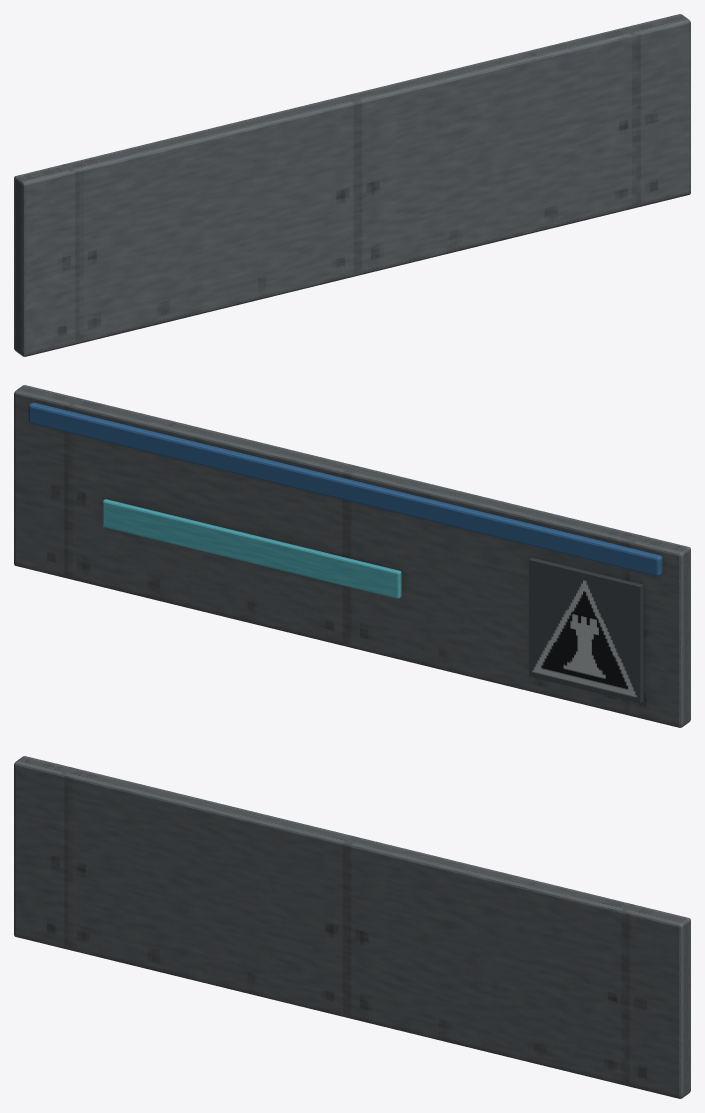
File: base_wall_sign.glb
3 renders of one model, top to bottom at view 1: azimuth 30°, elevation 25°; view 2: azimuth 150°, elevation 25°; view 3: azimuth 330°, elevation 25°, orthographic.
Parts seen in each view (by area): view 1: base_wall_sign.002; view 2: base_wall_sign.002; view 3: base_wall_sign.002.
Boxes of the visible parts, x1,y1,x2,y2 form: base_wall_sign.002: [14, 14, 690, 356]; base_wall_sign.002: [14, 385, 690, 727]; base_wall_sign.002: [14, 756, 690, 1098].
Size of the model in its own units: 3.6 by 0.9 by 0.135.
Materials: 4 (4 with a texture image).
